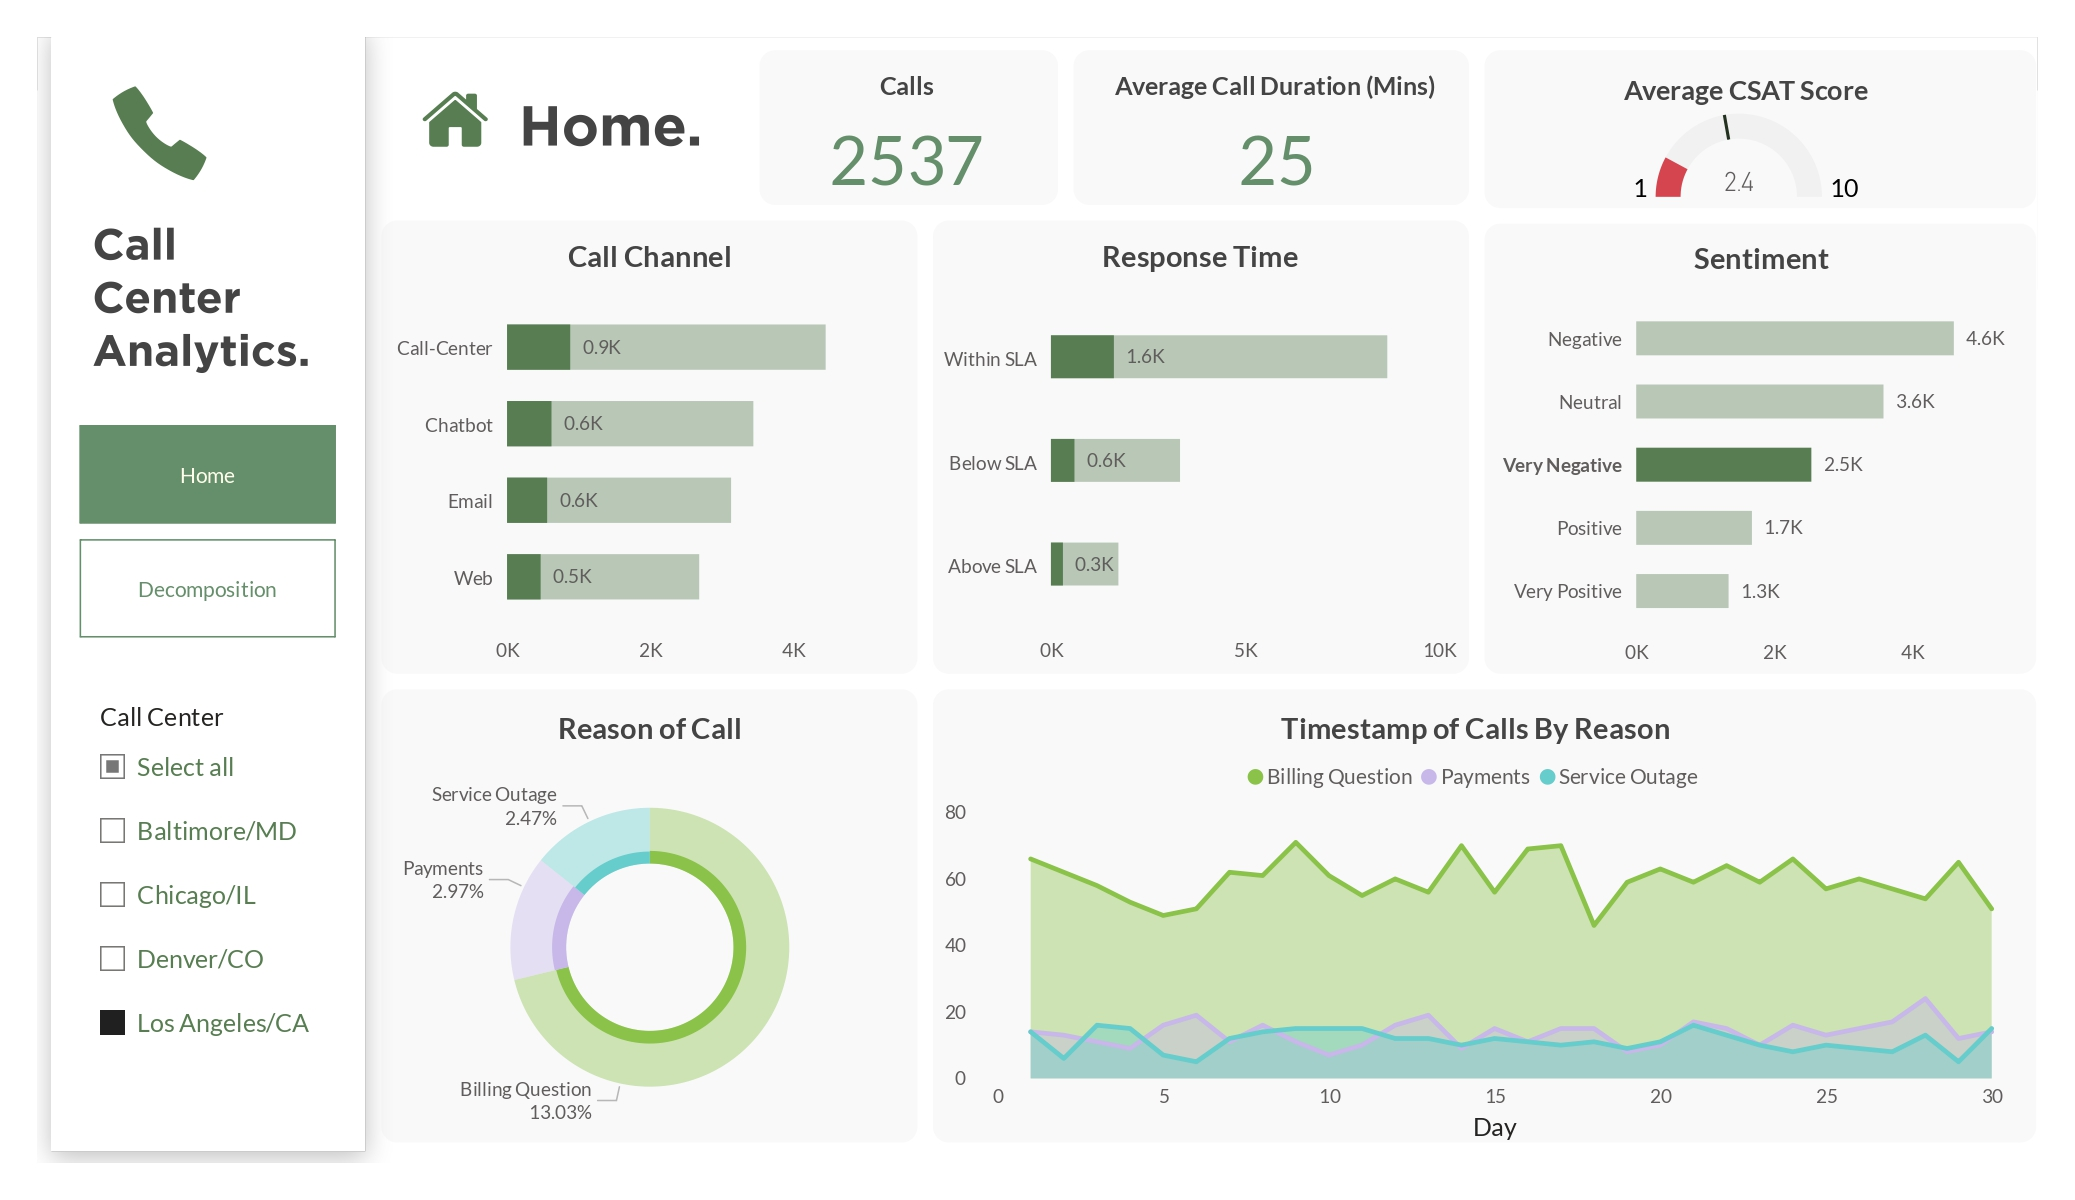

The page's visual inventory and layout, read from the dashboard file:
{"tool":"powerbi","page":{"name":"Home","canvas":[1280,720],"ordinal":0},"visuals":[{"type":"card","fields":{"Values":["Count(Call Center.id)"]},"box":[460.6,34,191.3,86.5],"z":0},{"type":"clusteredBarChart","title":"Sentiment","fields":{"Category":["Call Center.sentiment"],"Y":["CountNonNull(Call Center.sentiment)"]},"box":[931.2,120.5,344.4,290.6],"z":1000},{"type":"areaChart","title":"Timestamp of Calls By Reason","fields":{"Category":["Call Center.call_timestamp.Variation.Date Hierarchy.Day"],"Y":["CountNonNull(Call Center.call_timestamp)"],"Series":["Call Center.reason"]},"box":[575.4,420.9,690.2,290.6],"z":2000},{"type":"pageNavigator","box":[26.9,248,164.4,136.1],"z":3000},{"type":"donutChart","title":"Reason of Call","fields":{"Category":["Call Center.reason"],"Y":["CountNonNull(Call Center.reason)"]},"box":[222.5,420.9,338.7,290.6],"z":4000},{"type":"clusteredBarChart","title":"Call Channel","fields":{"Category":["Call Center.channel"],"Y":["CountNonNull(Call Center.channel)"]},"box":[222.5,119.1,338.7,290.6],"z":5000},{"type":"clusteredBarChart","title":"Response Time","fields":{"Category":["Call Center.response_time"],"Y":["CountNonNull(Call Center.response_time)"]},"box":[572.6,119.1,343,290.6],"z":6000},{"type":"card","fields":{"Values":["Call Center.AverageCallTime"]},"box":[664.7,34,256.5,86.5],"z":7000},{"type":"slicer","fields":{"Values":["Call Center.call_center"]},"box":[26.9,420,164.4,246.6],"z":8000},{"type":"gauge","title":"Average CSAT Score","fields":{"TargetValue":["Call Center.CSATarget"],"Y":["Call Center.AvgCSATScore"]},"box":[921.3,12.8,344.4,99.2],"z":9000},{"type":"textbox","box":[460.6,15.6,191.3,39.7],"z":10000},{"type":"textbox","box":[669,15,246.6,39.7],"z":11000}]}

Visuals, with their boxes on the page's 1280x720 design canvas (x1, y1, x2, y2). These are canvas units, not pixel positions in the 2075x1200 screenshot, which may show the page scaled, cropped or inside an application window:
card - Count(Call Center.id): box(461, 34, 652, 120)
"Sentiment" clusteredBarChart: box(931, 120, 1276, 411)
"Timestamp of Calls By Reason" areaChart: box(575, 421, 1266, 712)
pageNavigator: box(27, 248, 191, 384)
"Reason of Call" donutChart: box(222, 421, 561, 712)
"Call Channel" clusteredBarChart: box(222, 119, 561, 410)
"Response Time" clusteredBarChart: box(573, 119, 916, 410)
card - Call Center.AverageCallTime: box(665, 34, 921, 120)
slicer - Call Center.call_center: box(27, 420, 191, 667)
"Average CSAT Score" gauge: box(921, 13, 1266, 112)
textbox: box(461, 16, 652, 55)
textbox: box(669, 15, 916, 55)
